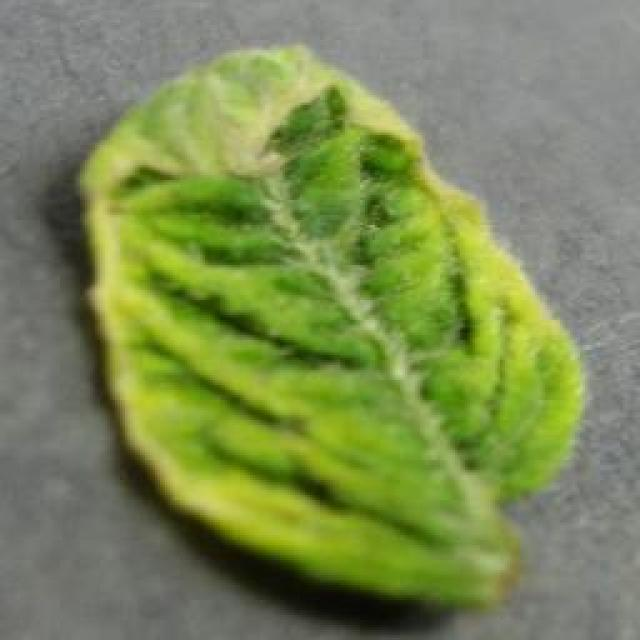Tomato yellow virus leaf: (75, 41, 587, 609)
